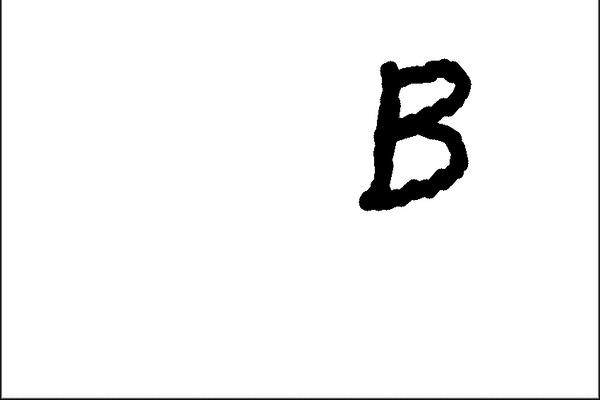B: (352, 48, 479, 219)
